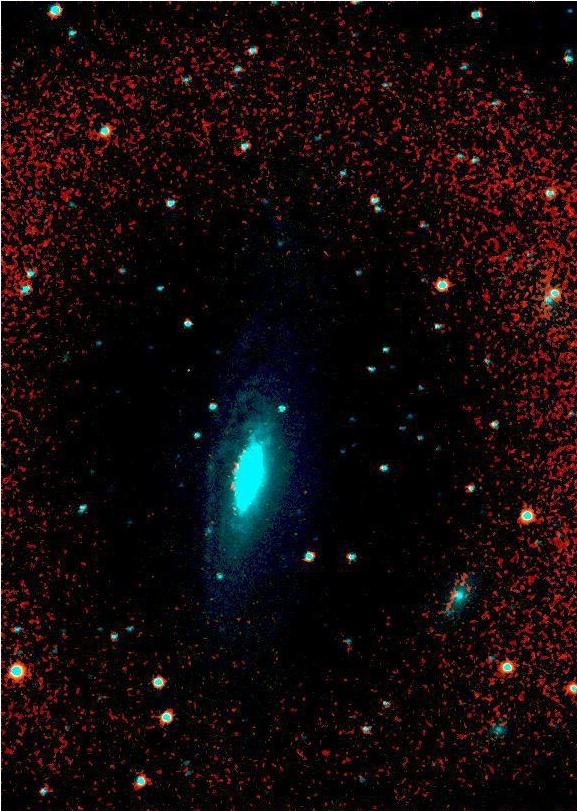star: (264, 496, 294, 526)
